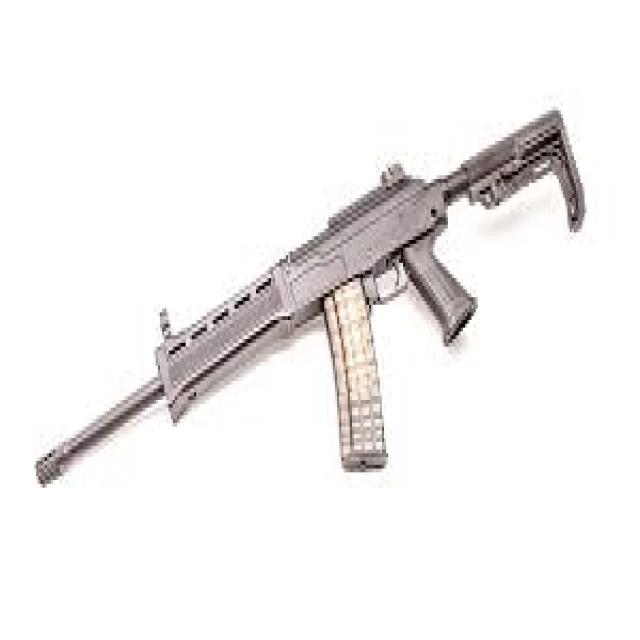rifle: (23, 97, 597, 525)
